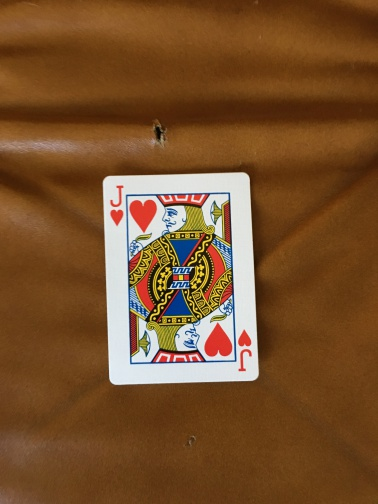jack: (102, 171, 261, 383)
